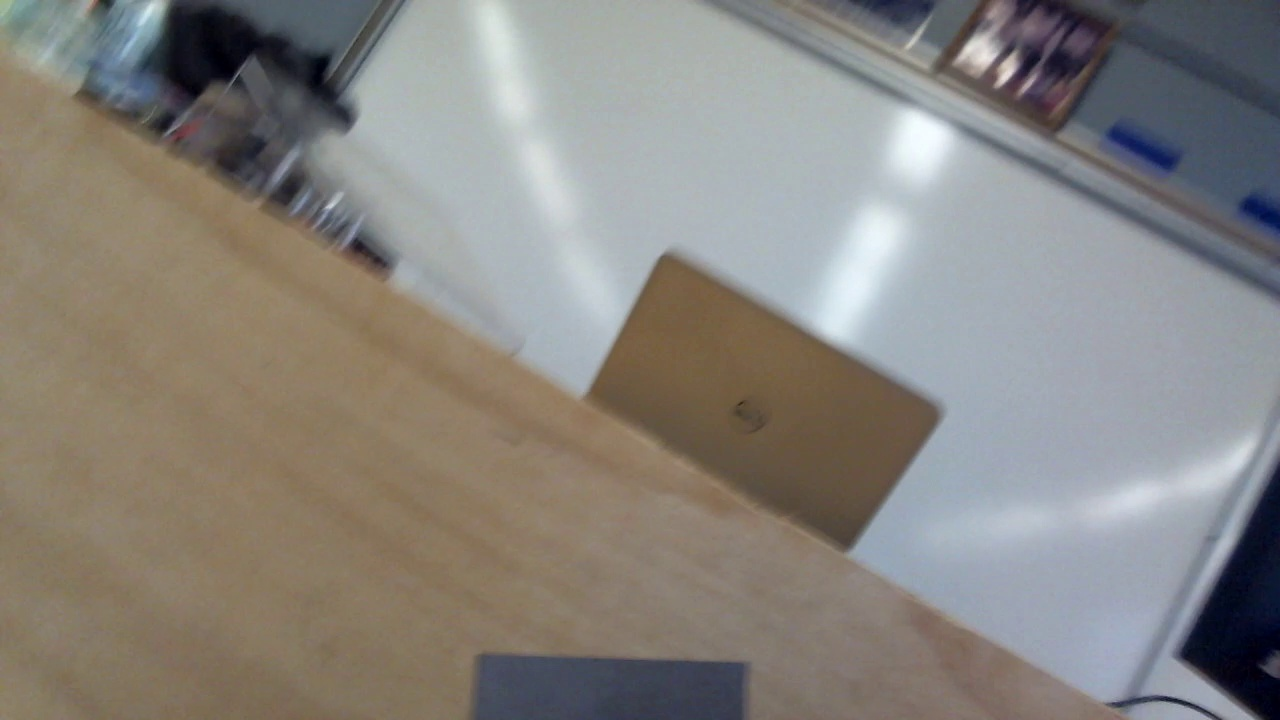Tape: (473, 649, 757, 720)
